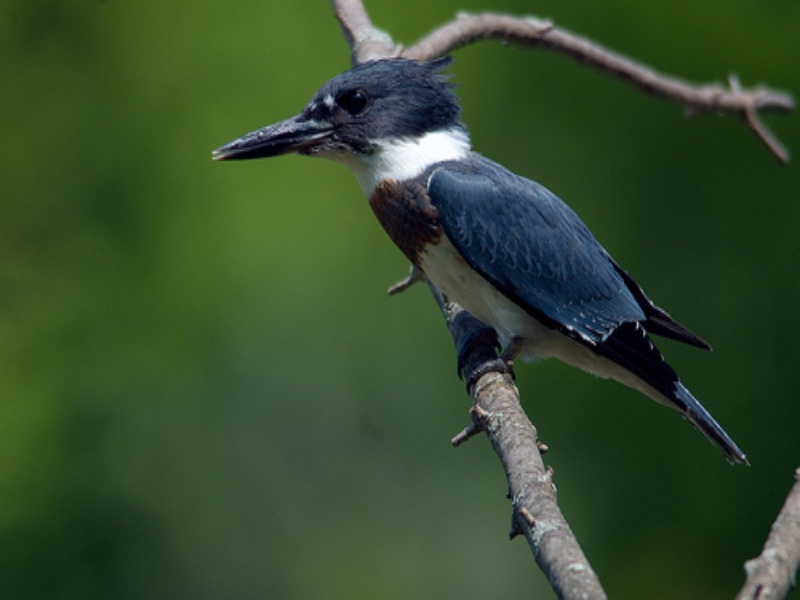kingfisher: (197, 47, 759, 487)
